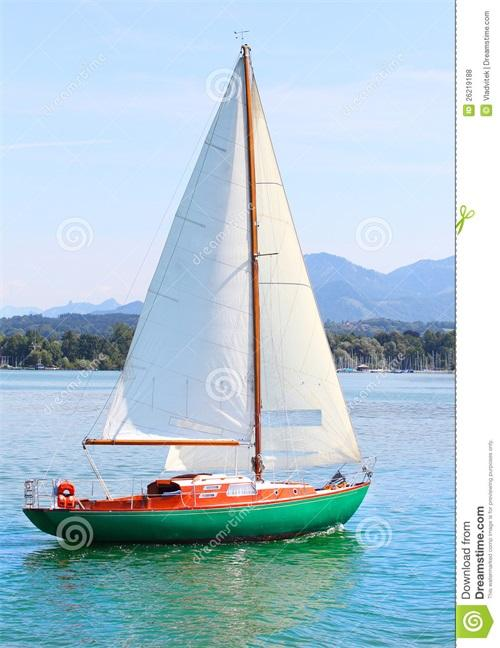Ship: (26, 48, 373, 538)
